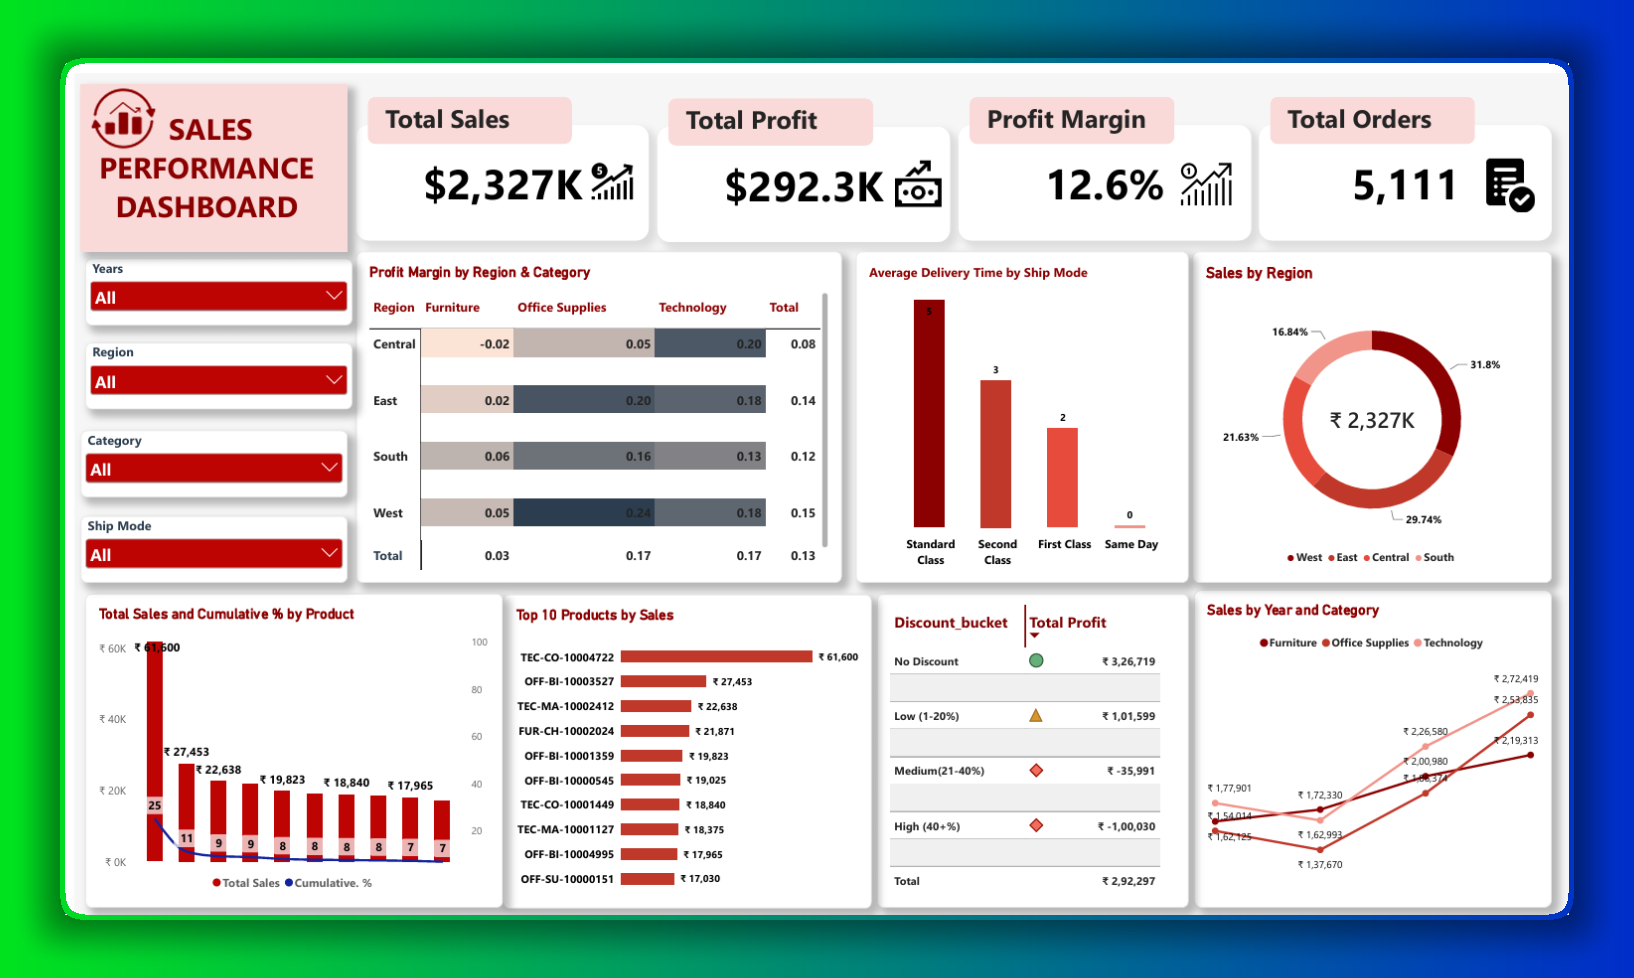

The dashboard page shown, as its layout file describes it:
{"tool":"powerbi","page":{"name":"Page 1","canvas":[1920,1080],"ordinal":0},"visuals":[{"type":"card","title":"Total Sales","fields":{"Values":["Orders.Profit Margin"]},"box":[1125.6,65.2,372.8,146.6],"z":0,"group":"g2"},{"type":"card","title":"Total Sales","fields":{"Values":["Orders.Total Orders"]},"box":[1509.3,65.2,372.8,146.6],"z":0,"group":"g3"},{"type":"card","title":"Total Sales","fields":{"Values":["Orders.Total Profit"]},"box":[742,67,372.8,146.6],"z":0,"group":"g1"},{"type":"textbox","box":[365.6,427.1,381.8,204.5],"z":0},{"type":"card","title":"Total Sales","fields":{"Values":["Orders.Total Sales"]},"box":[358.3,65,372.8,146.6],"z":1000},{"type":"group","id":"g1","title":"Group 1","box":[742,30.8,372.8,182.8],"z":2000},{"type":"shape","box":[372.8,29,260.6,59.7],"z":3000},{"type":"shape","box":[1140.1,29,260.6,59.7],"z":3000,"group":"g2"},{"type":"shape","box":[1523.8,29,260.6,59.7],"z":3000,"group":"g3"},{"type":"shape","box":[756.5,30.8,260.6,59.7],"z":3000,"group":"g1"},{"type":"group","id":"g2","title":"Group 1","box":[1125.6,29,372.8,182.8],"z":4000},{"type":"textbox","box":[1161.8,32.6,217.2,56.1],"z":4000,"group":"g2"},{"type":"textbox","box":[1545.5,32.6,217.2,56.1],"z":4000,"group":"g3"},{"type":"textbox","box":[778.2,34.4,217.2,56.1],"z":4000,"group":"g1"},{"type":"textbox","box":[394.5,32.6,217.2,56.1],"z":5000},{"type":"group","id":"g3","title":"Group 1","box":[1509.3,29,372.8,182.8],"z":6000},{"type":"lineChart","title":"Sales by Year and Category","fields":{"Category":["Orders.Order Date.Variation.Date Hierarchy.Year"],"Y":["Orders.Total Sales"],"Series":["Orders.Category"]},"box":[1426,656.9,456,405.4],"z":7000},{"type":"donutChart","title":"Sales by Region","fields":{"Category":["Orders.Region"],"Y":["Orders.Total Sales"]},"box":[1424.2,226.2,457.8,421.7],"z":8000},{"type":"image","box":[637,105,94.1,65.1],"z":9000},{"type":"image","box":[1033.3,103.2,81.4,72.4],"z":10000},{"type":"image","box":[1400.7,103.2,81.4,72.4],"z":11000},{"type":"image","box":[1784.3,105,81.4,72.4],"z":12000},{"type":"pivotTable","title":"Profit Margin by Region & Category","fields":{"Rows":["Orders.Region"],"Columns":["Orders.Category"],"Values":["Orders.Profit Margin"]},"box":[358.3,226.2,618.9,421.7],"z":13000},{"type":"pivotTable","fields":{"Rows":["Orders.Discount_bucket"],"Values":["Orders.Total Profit"]},"box":[1022.5,662.3,396.3,399.9],"z":14000},{"type":"clusteredColumnChart","fields":{"Category":["Orders.Ship Mode"],"Y":["Orders.Avg Delivery Days"]},"box":[995.3,226.2,423.5,421.7],"z":15000},{"type":"clusteredBarChart","title":"Top 10 Products by Sales","fields":{"Y":["Orders.Total Sales"],"Category":["Orders.Product ID"]},"box":[545,663,470,400],"z":16000},{"type":"lineStackedColumnComboChart","title":"Total Sales and Cumulative % by Product","fields":{"Y":["Orders.Total Sales"],"Category":["Orders.Product ID"],"Y2":["Orders.Cumulative. %"]},"box":[12.7,662.3,532,399.9],"z":17000},{"type":"slicer","fields":{"Values":["Orders.Years"]},"box":[12.7,235.3,340.2,85.1],"z":18000},{"type":"slicer","fields":{"Values":["Orders.Region"]},"box":[12.7,342,340.2,85.1],"z":19000},{"type":"slicer","fields":{"Values":["Orders.Category"]},"box":[7.2,454.2,340.2,85.1],"z":20000},{"type":"slicer","fields":{"Values":["Orders.Ship Mode"]},"box":[7.2,562.8,340.2,85.1],"z":21000},{"type":"shape","box":[7.2,12.7,340.2,213.5],"z":22000},{"type":"textbox","box":[7.2,25.3,320.3,224.4],"z":23000},{"type":"image","box":[18.1,12.7,86.9,86.9],"z":24000}]}

Visuals, with their boxes on the page's 1920x1080 design canvas (x1, y1, x2, y2). These are canvas units, not pixel positions in the 1634x978 screenshot, which may show the page scaled, cropped or inside an application window:
"Total Sales" card: left=1126, top=65, right=1498, bottom=212
"Total Sales" card: left=1509, top=65, right=1882, bottom=212
"Total Sales" card: left=742, top=67, right=1115, bottom=214
textbox: left=366, top=427, right=747, bottom=632
"Total Sales" card: left=358, top=65, right=731, bottom=212
"Group 1" group: left=742, top=31, right=1115, bottom=214
shape: left=373, top=29, right=633, bottom=89
shape: left=1140, top=29, right=1401, bottom=89
shape: left=1524, top=29, right=1784, bottom=89
shape: left=756, top=31, right=1017, bottom=90
"Group 1" group: left=1126, top=29, right=1498, bottom=212
textbox: left=1162, top=33, right=1379, bottom=89
textbox: left=1546, top=33, right=1763, bottom=89
textbox: left=778, top=34, right=995, bottom=90
textbox: left=394, top=33, right=612, bottom=89
"Group 1" group: left=1509, top=29, right=1882, bottom=212
"Sales by Year and Category" lineChart: left=1426, top=657, right=1882, bottom=1062
"Sales by Region" donutChart: left=1424, top=226, right=1882, bottom=648
image: left=637, top=105, right=731, bottom=170
image: left=1033, top=103, right=1115, bottom=176
image: left=1401, top=103, right=1482, bottom=176
image: left=1784, top=105, right=1866, bottom=177
"Profit Margin by Region & Category" pivotTable: left=358, top=226, right=977, bottom=648
pivotTable - Orders.Discount_bucket x Orders.Total Profit: left=1022, top=662, right=1419, bottom=1062
clusteredColumnChart - Orders.Ship Mode x Orders.Avg Delivery Days: left=995, top=226, right=1419, bottom=648
"Top 10 Products by Sales" clusteredBarChart: left=545, top=663, right=1015, bottom=1063
"Total Sales and Cumulative % by Product" lineStackedColumnComboChart: left=13, top=662, right=545, bottom=1062
slicer - Orders.Years: left=13, top=235, right=353, bottom=320
slicer - Orders.Region: left=13, top=342, right=353, bottom=427
slicer - Orders.Category: left=7, top=454, right=347, bottom=539
slicer - Orders.Ship Mode: left=7, top=563, right=347, bottom=648
shape: left=7, top=13, right=347, bottom=226
textbox: left=7, top=25, right=328, bottom=250
image: left=18, top=13, right=105, bottom=100
